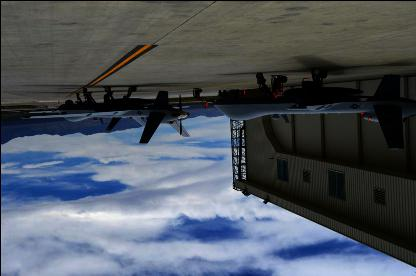MQ9: (212, 67, 414, 149), (19, 86, 189, 144), (22, 92, 188, 130)
